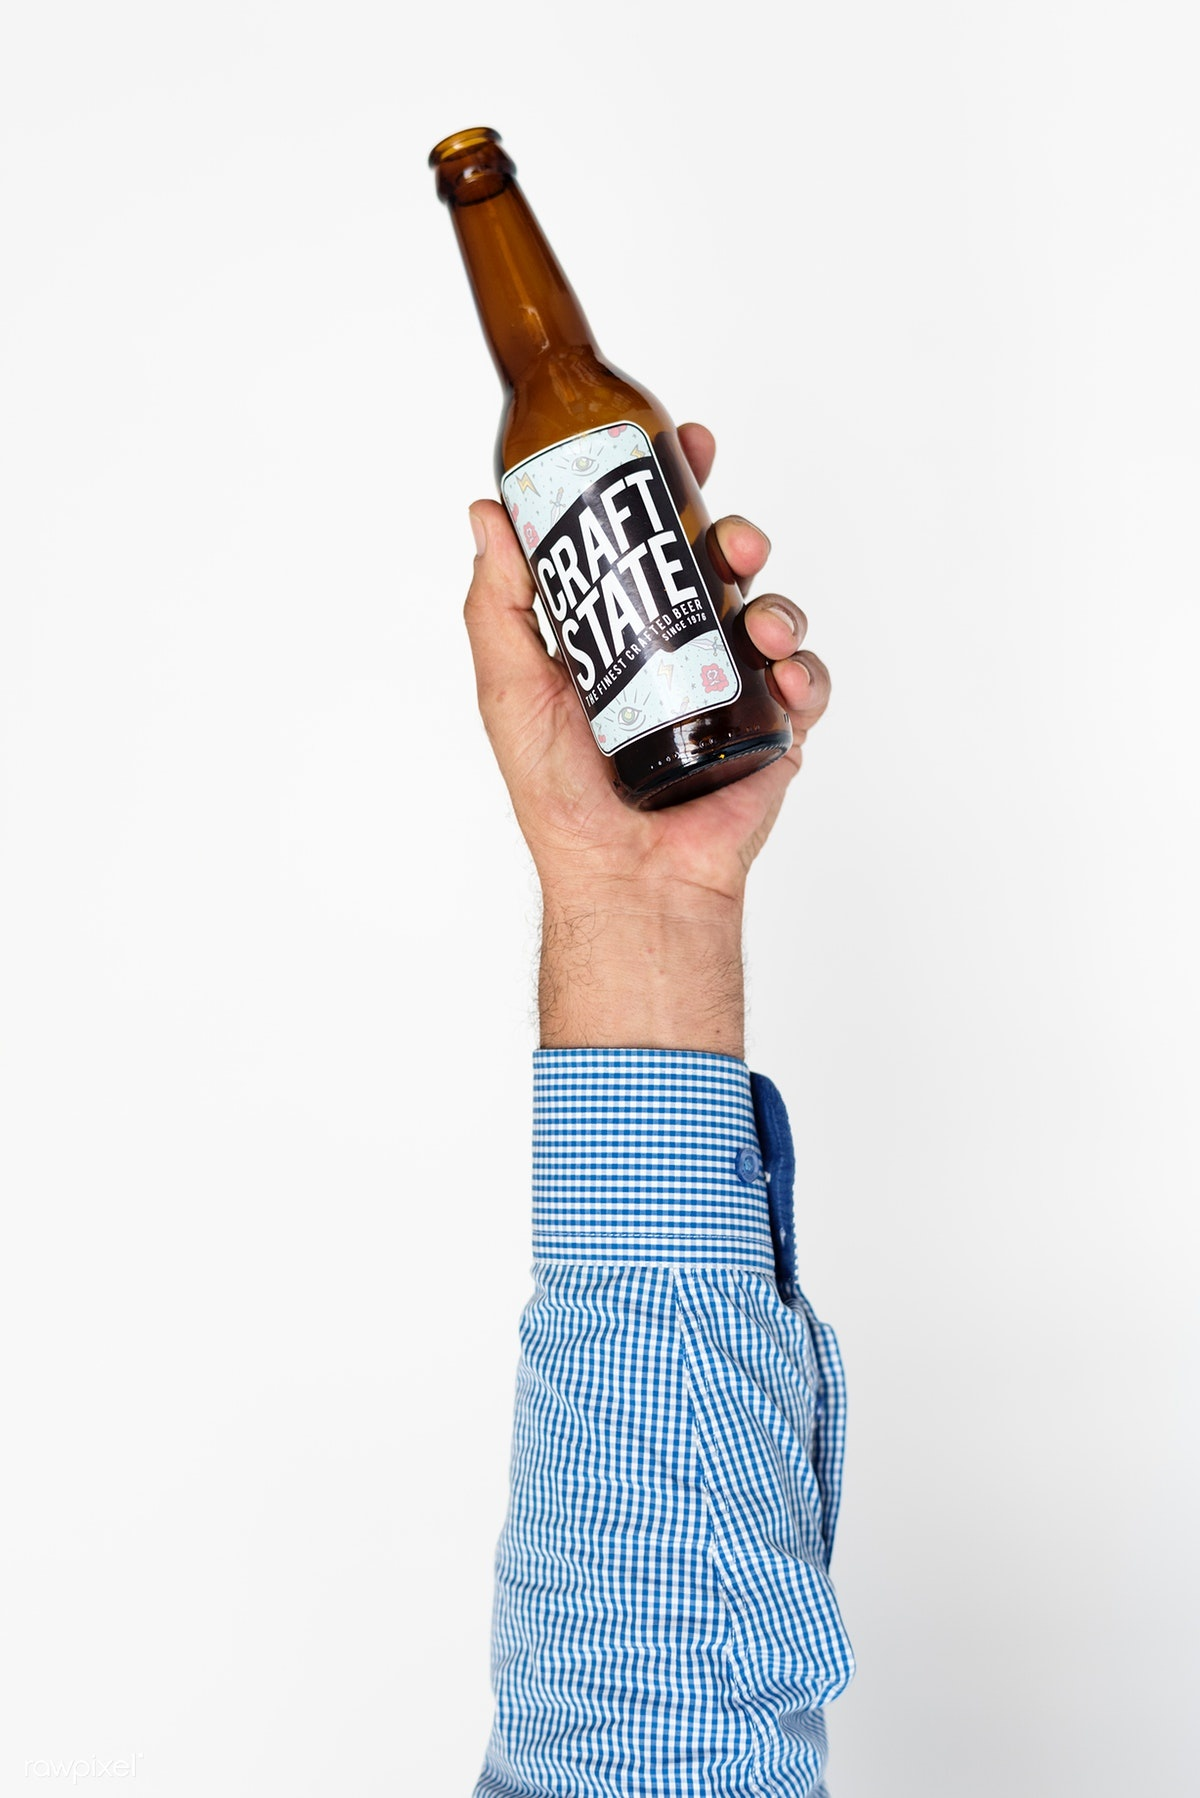beerBottle: (414, 129, 804, 810)
